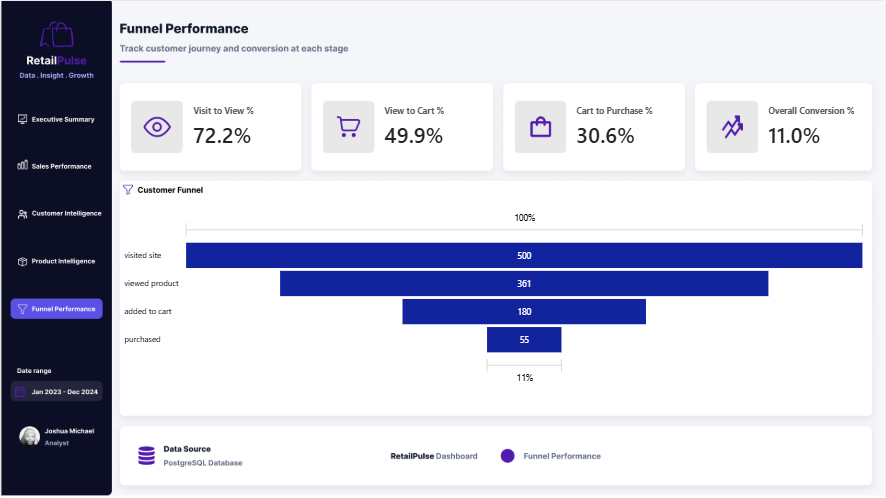

Layout of this report page (visuals, bound fields, positions):
{"tool":"powerbi","page":{"name":"Funnel Performance","canvas":[1920,1080],"ordinal":4},"visuals":[{"type":"funnel","title":"Customer Funnel","fields":{"Category":["public vw_funnel_analysis.Funnel Stage"],"Y":["Sum(public vw_funnel_analysis.Customers)"]},"box":[263,395.7,1619.6,497.8],"z":0},{"type":"cardVisual","fields":{"Data":["public vw_funnel_analysis.Visit to View %"]},"box":[413,182,254.3,182.6],"z":1000},{"type":"cardVisual","fields":{"Data":["public vw_funnel_analysis.View to Cart %"]},"box":[828,182,254,182],"z":2000},{"type":"cardVisual","fields":{"Data":["public vw_funnel_analysis.Cart to Purchase %"]},"box":[1246,182,254,182],"z":3000},{"type":"actionButton","box":[21,234,199,44],"z":4000},{"type":"actionButton","box":[21,341.1,199,44],"z":5000},{"type":"actionButton","box":[21,436,199,44],"z":6000},{"type":"actionButton","box":[21,544,199,44],"z":7000},{"type":"actionButton","box":[21,645,199,44],"z":8000},{"type":"cardVisual","fields":{"Data":["public vw_funnel_analysis.Overall Conversion %"]},"box":[1663,182,238,182],"z":9000}]}

Visuals, with their boxes on the page's 1920x1080 design canvas (x1, y1, x2, y2). These are canvas units, not pixel positions in the 886x498 screenshot, which may show the page scaled, cropped or inside an application window:
"Customer Funnel" funnel: {"x1": 263, "y1": 396, "x2": 1883, "y2": 894}
cardVisual - public vw_funnel_analysis.Visit to View %: {"x1": 413, "y1": 182, "x2": 667, "y2": 365}
cardVisual - public vw_funnel_analysis.View to Cart %: {"x1": 828, "y1": 182, "x2": 1082, "y2": 364}
cardVisual - public vw_funnel_analysis.Cart to Purchase %: {"x1": 1246, "y1": 182, "x2": 1500, "y2": 364}
actionButton: {"x1": 21, "y1": 234, "x2": 220, "y2": 278}
actionButton: {"x1": 21, "y1": 341, "x2": 220, "y2": 385}
actionButton: {"x1": 21, "y1": 436, "x2": 220, "y2": 480}
actionButton: {"x1": 21, "y1": 544, "x2": 220, "y2": 588}
actionButton: {"x1": 21, "y1": 645, "x2": 220, "y2": 689}
cardVisual - public vw_funnel_analysis.Overall Conversion %: {"x1": 1663, "y1": 182, "x2": 1901, "y2": 364}
